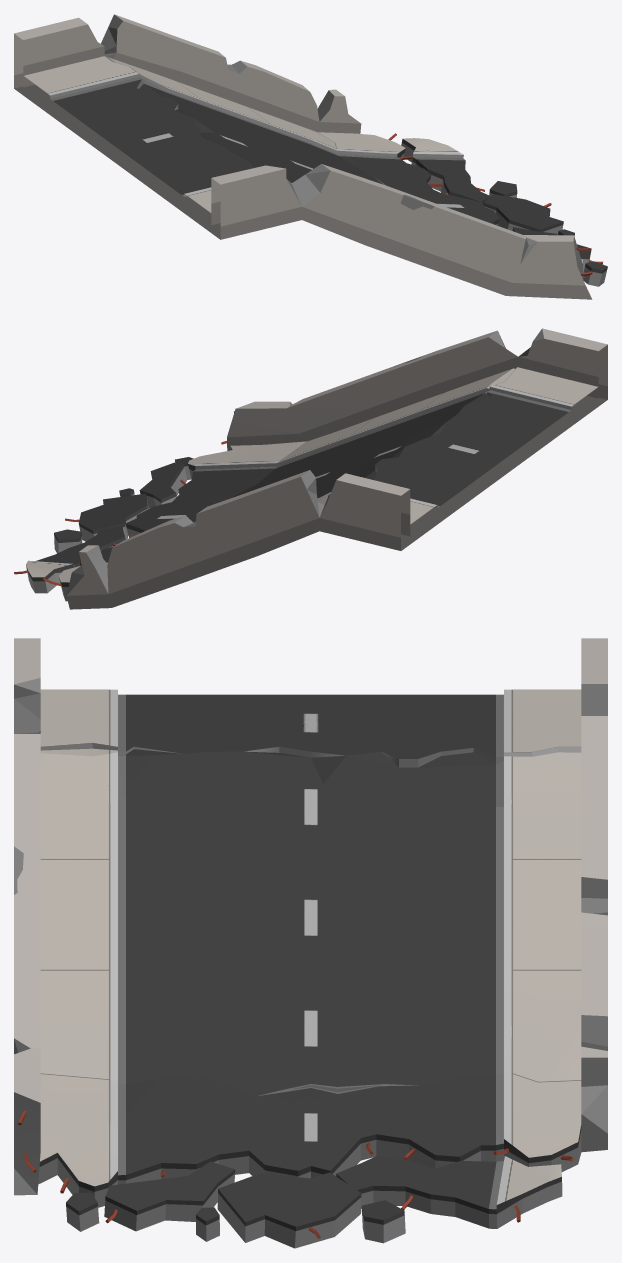
Rendered from SA_Env_Highway_Broken_02.gltf.
The picture shows the model from 3 angles, top to bottom: view 1: azimuth 30°, elevation 25°; view 2: azimuth 150°, elevation 25°; view 3: azimuth 270°, elevation 25°; orthographic projection. The views are drawn at different scales.
Parts seen in each view (by area): view 1: SA_Env_Highway_Broken_02; view 2: SA_Env_Highway_Broken_02; view 3: SA_Env_Highway_Broken_02.
Part boxes in pixels (x1=…): SA_Env_Highway_Broken_02: x1=14, y1=14, x2=607, y2=299; SA_Env_Highway_Broken_02: x1=14, y1=328, x2=607, y2=609; SA_Env_Highway_Broken_02: x1=14, y1=638, x2=607, y2=1248.
Bounding box in the file's own units: 26.81 × 12.7 × 21.96.
Materials: 1 (1 with a texture image).
